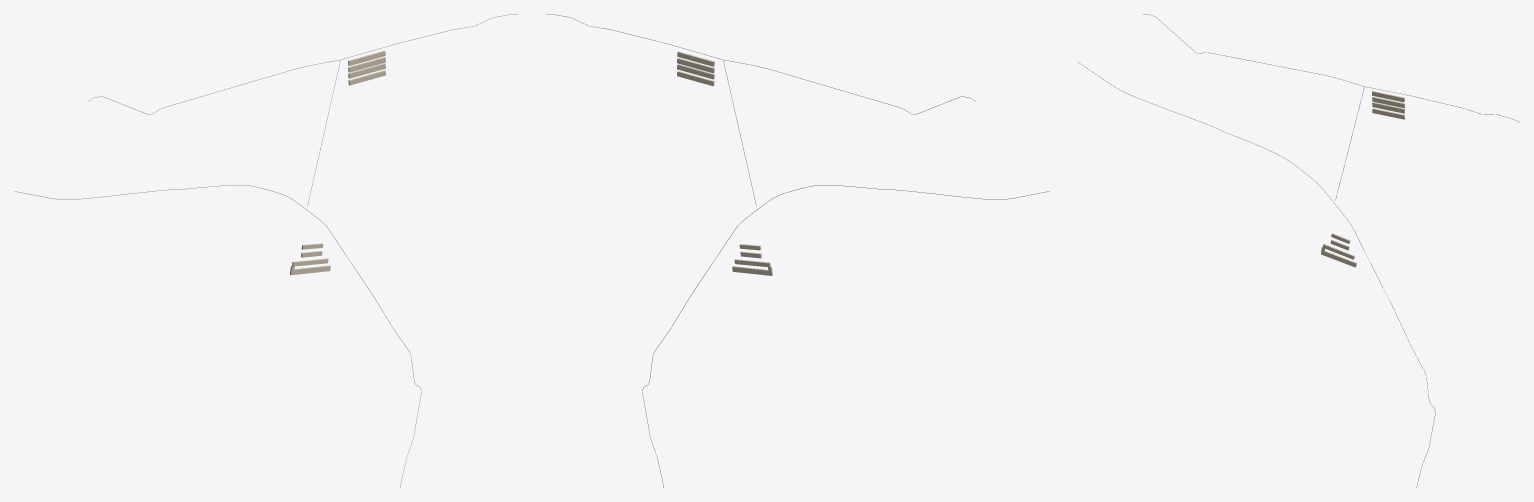
The model's file is historic-palestine-11_31_3527_3253.glb.
3 renders of one model, left to right at view 1: azimuth 30°, elevation 25°; view 2: azimuth 150°, elevation 25°; view 3: azimuth 330°, elevation 25°, orthographic. The views are drawn at different scales.
Visible parts, largest first — view 1: Road .002; view 2: Road .002; view 3: Road .002.
Boxes of the visible parts, <box> form: Road .002: <box>14,185,421,487</box>; Road .002: <box>642,185,1049,487</box>; Road .002: <box>1078,62,1435,487</box>.
Size of the model in its own units: 2133 by 1884 by 8.7.
